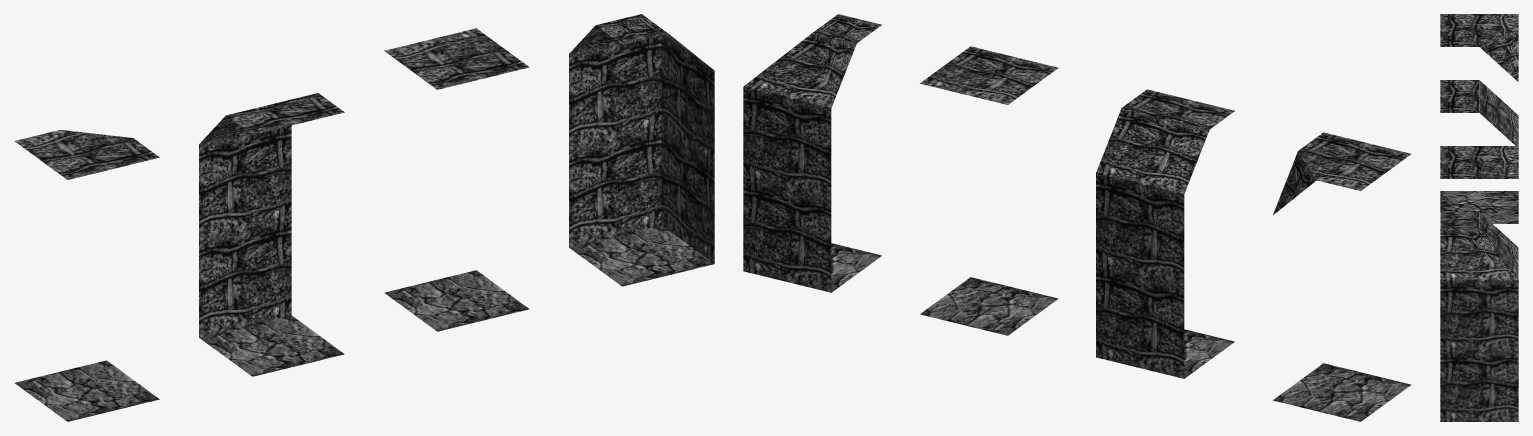
File: crypt_01.glb
3 views of the same model, side by side, from view 1: azimuth 30°, elevation 25°; view 2: azimuth 150°, elevation 25°; view 3: azimuth 270°, elevation 25° (orthographic). The views are drawn at different scales.
Visible parts, largest first — view 1: turn-col, wall-col, floor-col, corner-col; view 2: wall-col, turn-col, corner-col, floor-col; view 3: turn-col, corner-col, wall-col, floor-col.
Part boxes in pixels (left/top/right/bottom): turn-col: left=569, top=14, right=714, bottom=286; wall-col: left=199, top=93, right=344, bottom=376; floor-col: left=384, top=28, right=529, bottom=331; corner-col: left=14, top=130, right=159, bottom=421; wall-col: left=1096, top=89, right=1234, bottom=378; turn-col: left=743, top=14, right=881, bottom=292; corner-col: left=1273, top=132, right=1411, bottom=421; floor-col: left=920, top=46, right=1058, bottom=335; turn-col: left=1440, top=212, right=1518, bottom=421; corner-col: left=1440, top=14, right=1518, bottom=223; wall-col: left=1440, top=80, right=1518, bottom=145; floor-col: left=1440, top=146, right=1518, bottom=178.
Size of the model in its own units: 14 by 5 by 2.
1 material, 1 textured.
